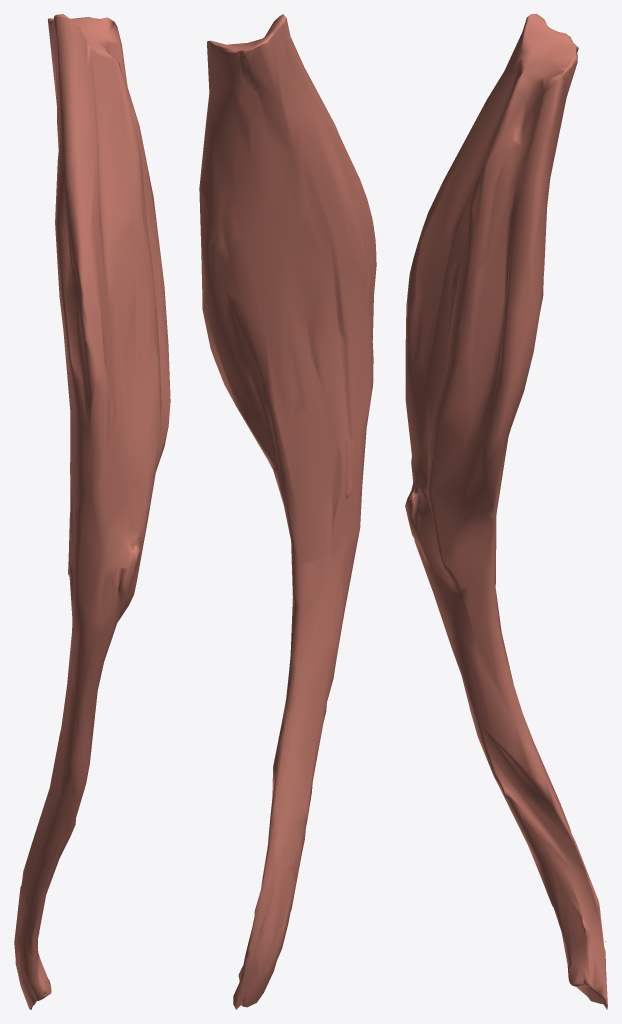
3 views of the same model, side by side, from view 1: azimuth 30°, elevation 25°; view 2: azimuth 150°, elevation 25°; view 3: azimuth 270°, elevation 25° (orthographic). The views are drawn at different scales.
Visible parts, largest first — view 1: 左侧踇展肌; view 2: 左侧踇展肌; view 3: 左侧踇展肌.
Part boxes in pixels (x1=…): 左侧踇展肌: x1=14, y1=14, x2=170, y2=1009; 左侧踇展肌: x1=199, y1=14, x2=376, y2=1009; 左侧踇展肌: x1=405, y1=14, x2=607, y2=1009.
Size of the model in its own units: 0.0301 by 0.214 by 0.0397.
